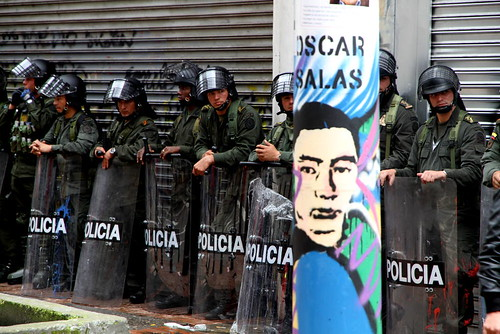policeman: (379, 73, 485, 297), (89, 84, 150, 282), (194, 73, 260, 249), (29, 73, 88, 266), (1, 58, 52, 276), (144, 70, 192, 249), (264, 63, 309, 229), (371, 55, 415, 176)
